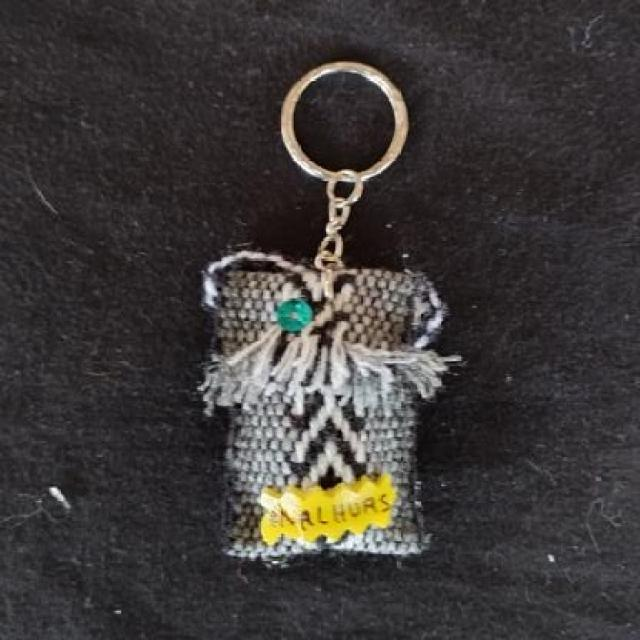Llavero: (196, 248, 462, 563)
